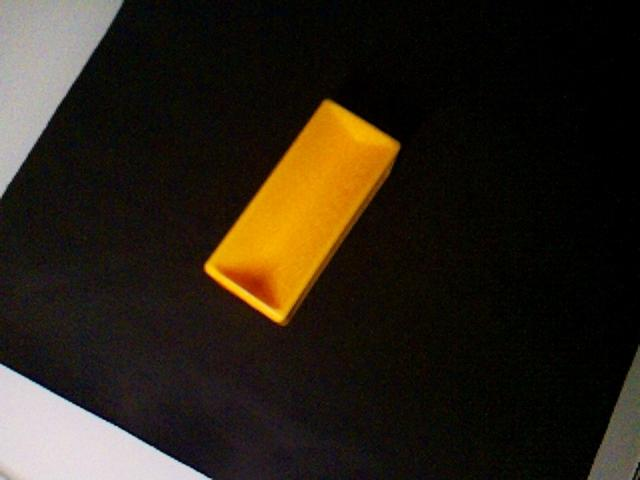yellow: (203, 97, 402, 327)
